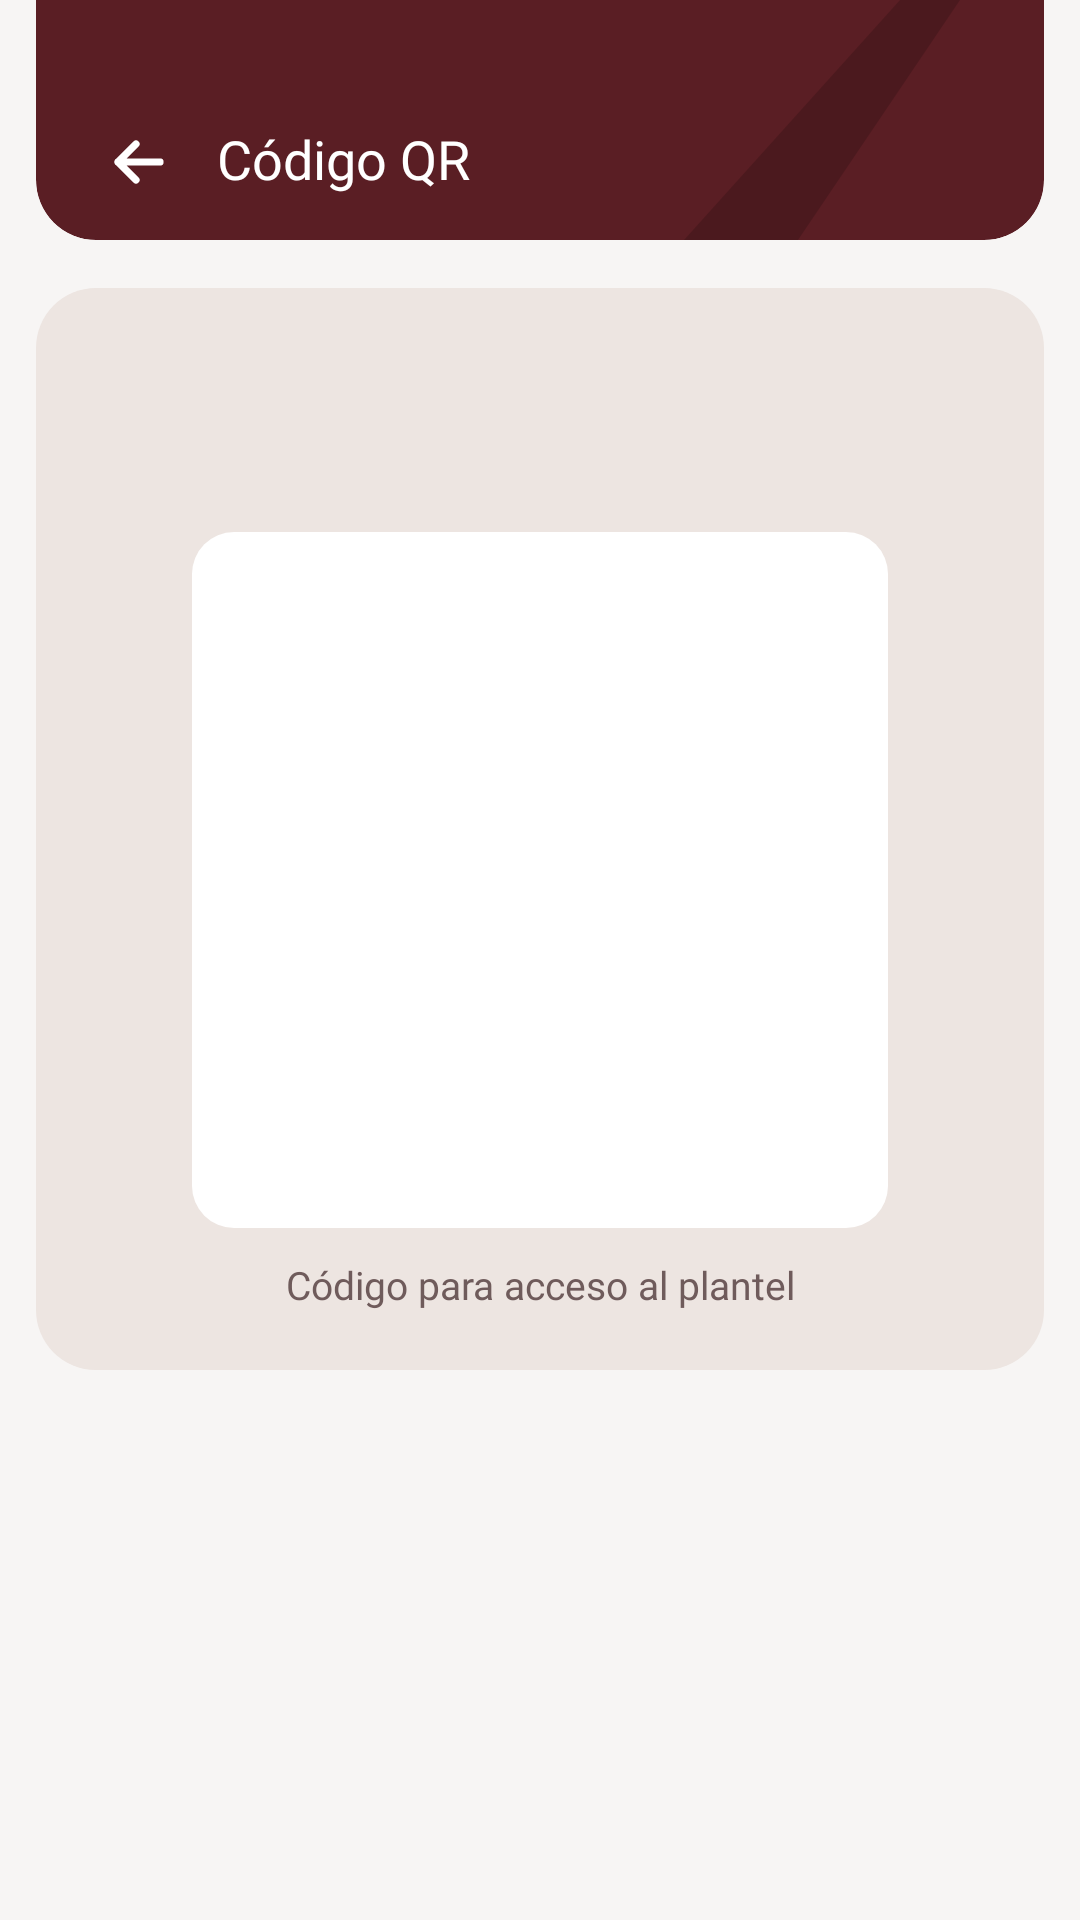

Where to tap for icons on this 1080*1920 app screen, as (x,y):
Regresar: (139,162)
